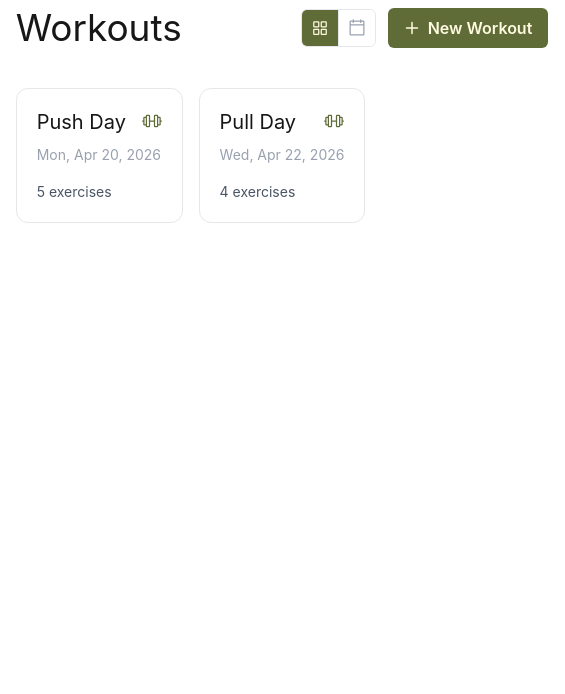
WorkoutsView — calendar view › shows the selected-day panel when a workout day is clicked
This screenshot has width=565, height=694.
Step 1. Click the button named "Calendar view" → x=356, y=28, box top-left (338, 10), bottom-right (375, 46)
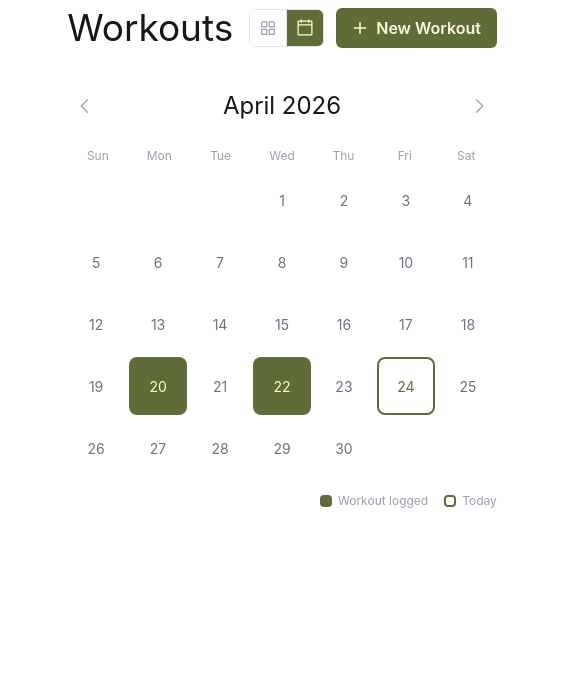
Step 2. Click the button "20" → x=158, y=386, box top-left (129, 357), bottom-right (187, 415)
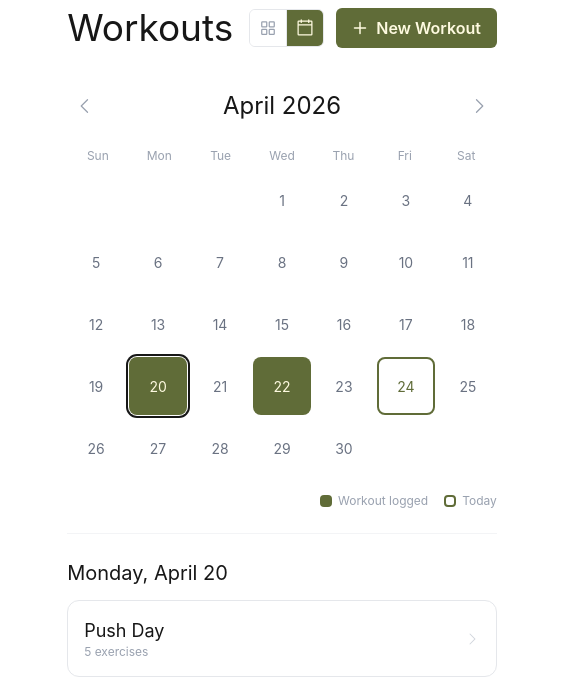
Expected: the heading "Push Day" is shown, top-left (84, 617), bottom-right (164, 644)
